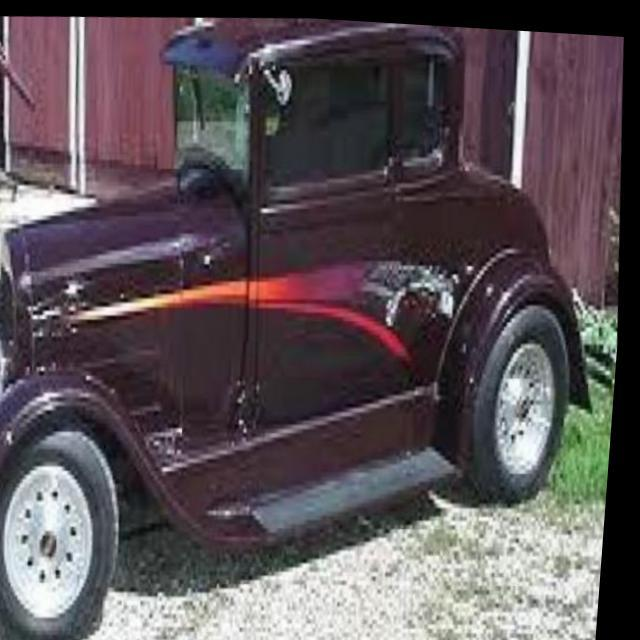crack: (360, 240, 468, 334)
